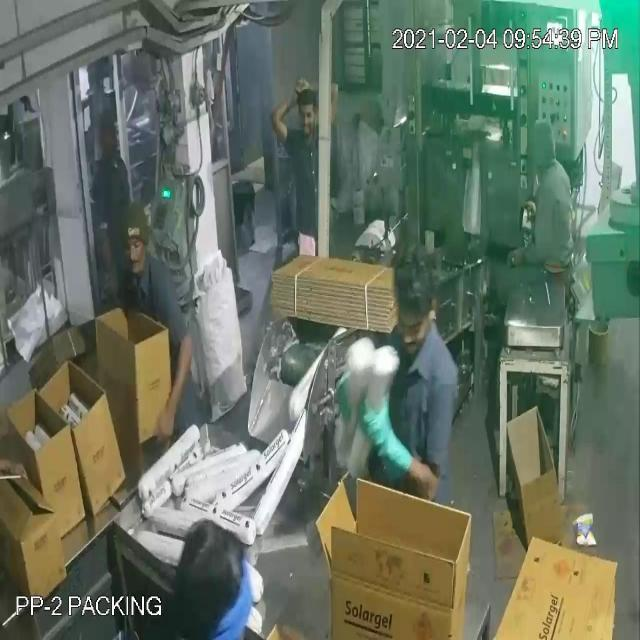No_Gloves: (30, 72, 392, 424)
